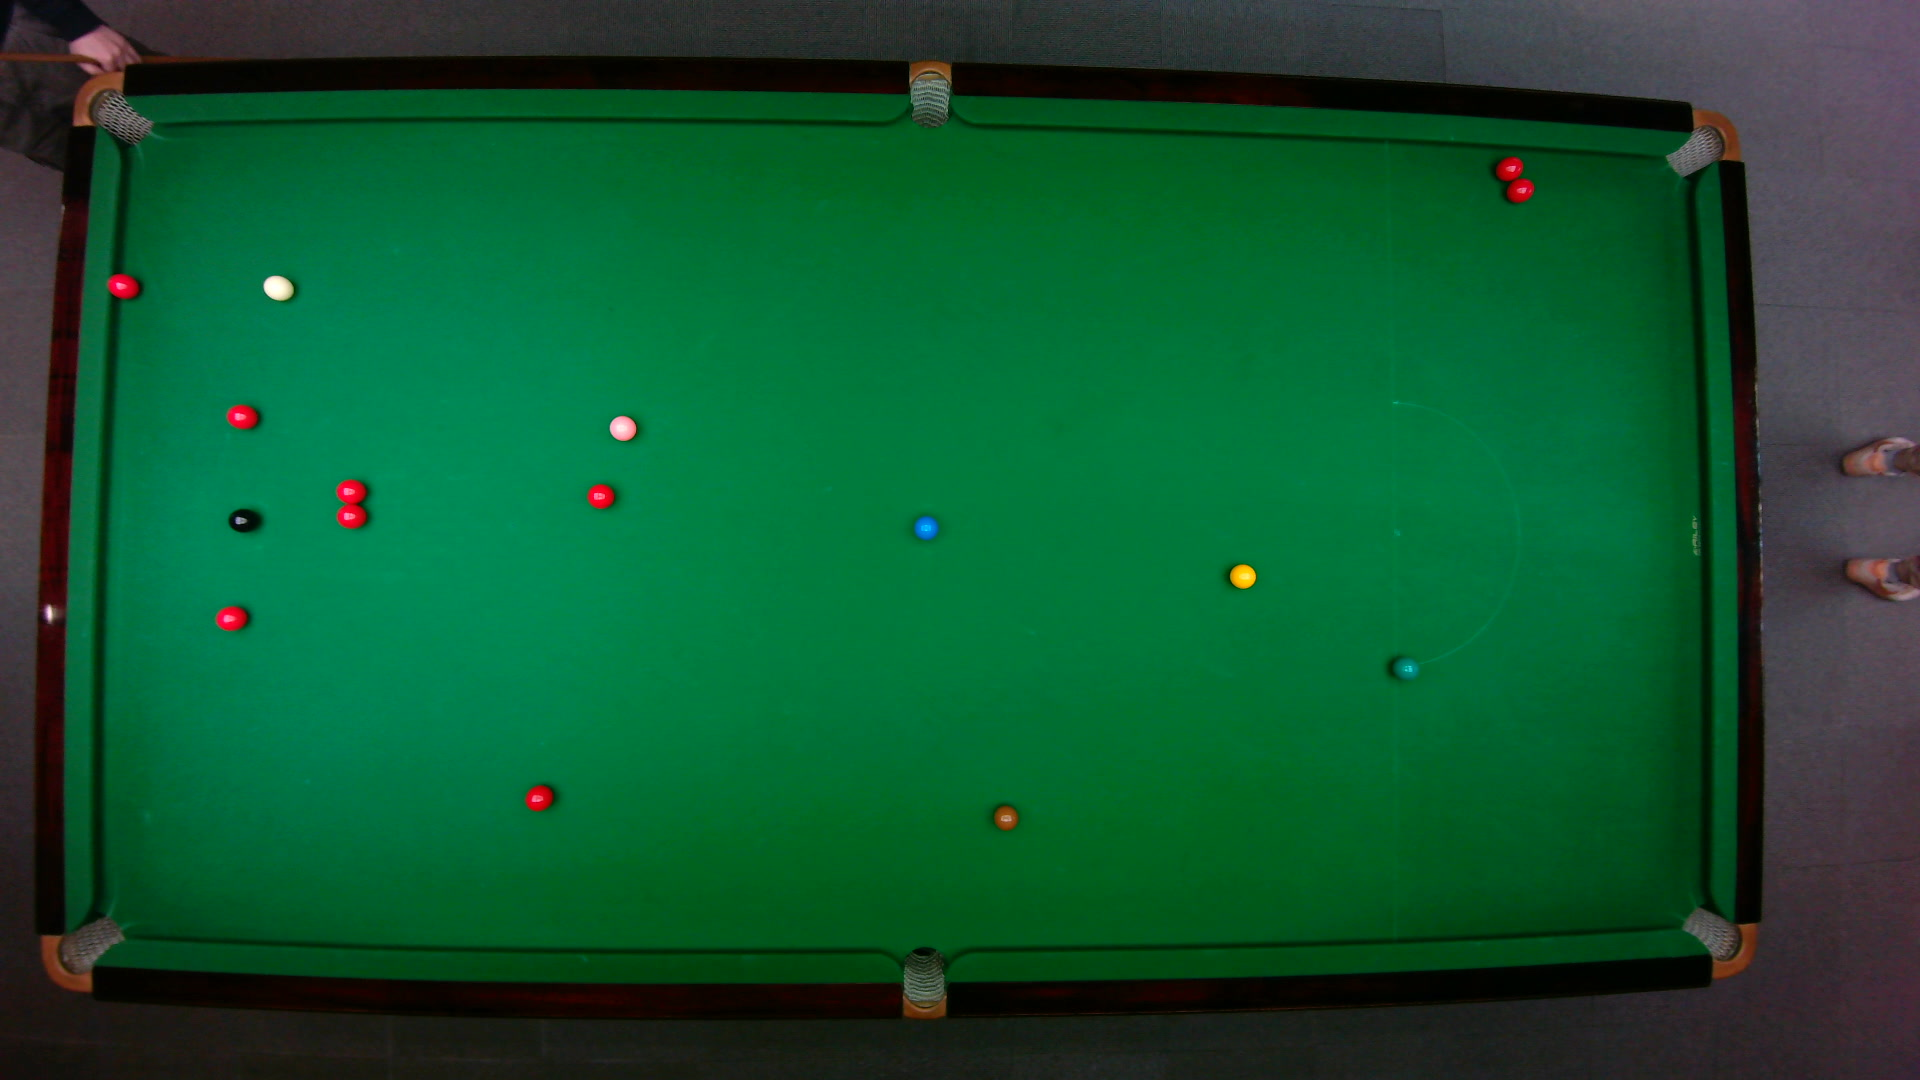bag: (40, 914, 127, 993), (70, 70, 156, 149), (1680, 905, 1758, 980), (1663, 108, 1742, 179), (902, 945, 945, 1021), (909, 59, 952, 131)
black: (227, 506, 258, 533)
blue: (913, 514, 940, 541)
brown: (992, 804, 1019, 832)
green: (1391, 655, 1419, 680)
pink: (607, 414, 638, 442)
red: (105, 272, 142, 301), (214, 604, 249, 632), (225, 404, 260, 431), (335, 477, 369, 505), (524, 783, 555, 812), (1505, 177, 1536, 204), (335, 505, 369, 530), (1494, 156, 1524, 183), (585, 483, 616, 510)
white: (260, 273, 295, 303)
yellow: (1228, 562, 1258, 589)
zone: (1391, 400, 1519, 667)
